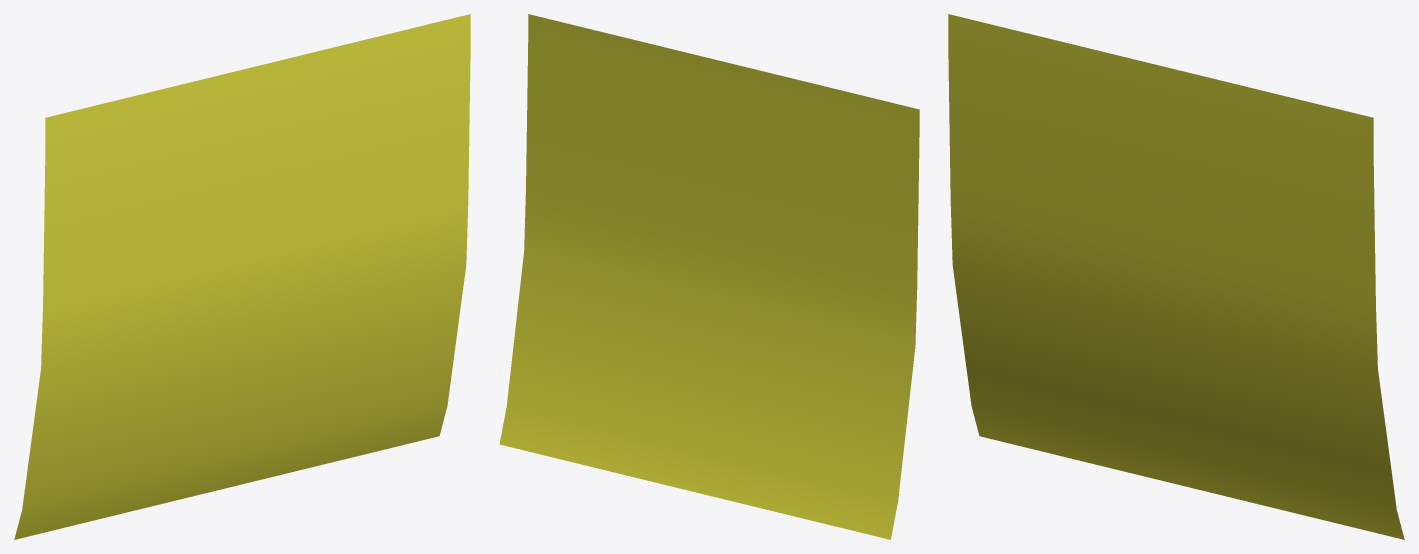
Rendered from postit2.glb.
3 views of the same model, side by side, from view 1: azimuth 30°, elevation 25°; view 2: azimuth 150°, elevation 25°; view 3: azimuth 330°, elevation 25° (orthographic). The views are drawn at different scales.
Parts seen in each view (by area): view 1: Plane.004; view 2: Plane.004; view 3: Plane.004.
Boxes of the visible parts, box(x1,y1,x2,y2) form: Plane.004: box(14, 14, 470, 539); Plane.004: box(499, 14, 919, 539); Plane.004: box(948, 14, 1404, 539).
Size of the model in its own units: 0.4421 by 0.4421 by 0.0562.
Materials: 1 (1 with a texture image).
